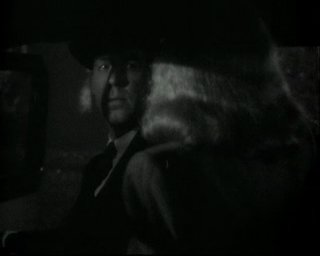face: (94, 53, 142, 127)
mcu: (1, 1, 320, 256)
ots: (125, 1, 320, 256)
person: (68, 37, 152, 256)
